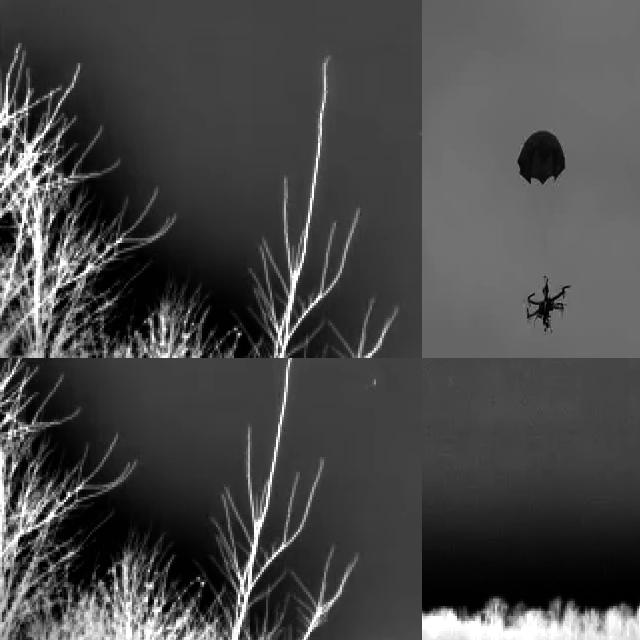0: (364, 371, 390, 401), (416, 116, 422, 149)
drone: (522, 275, 574, 335)
